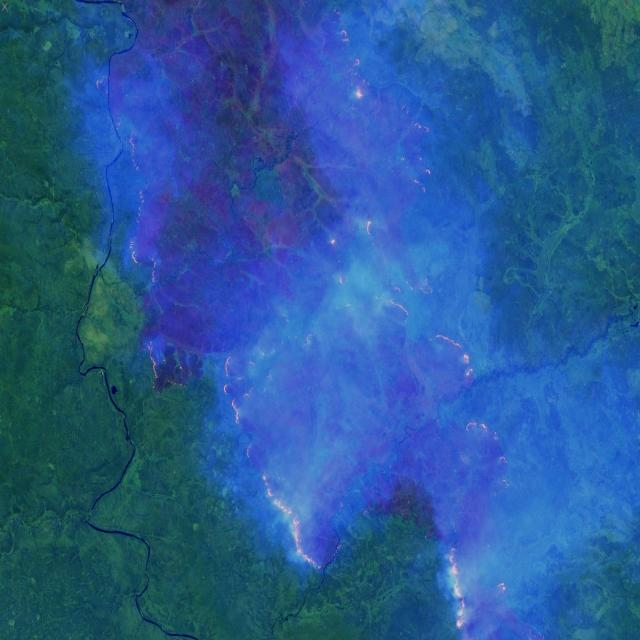fire: (216, 0, 524, 640)
